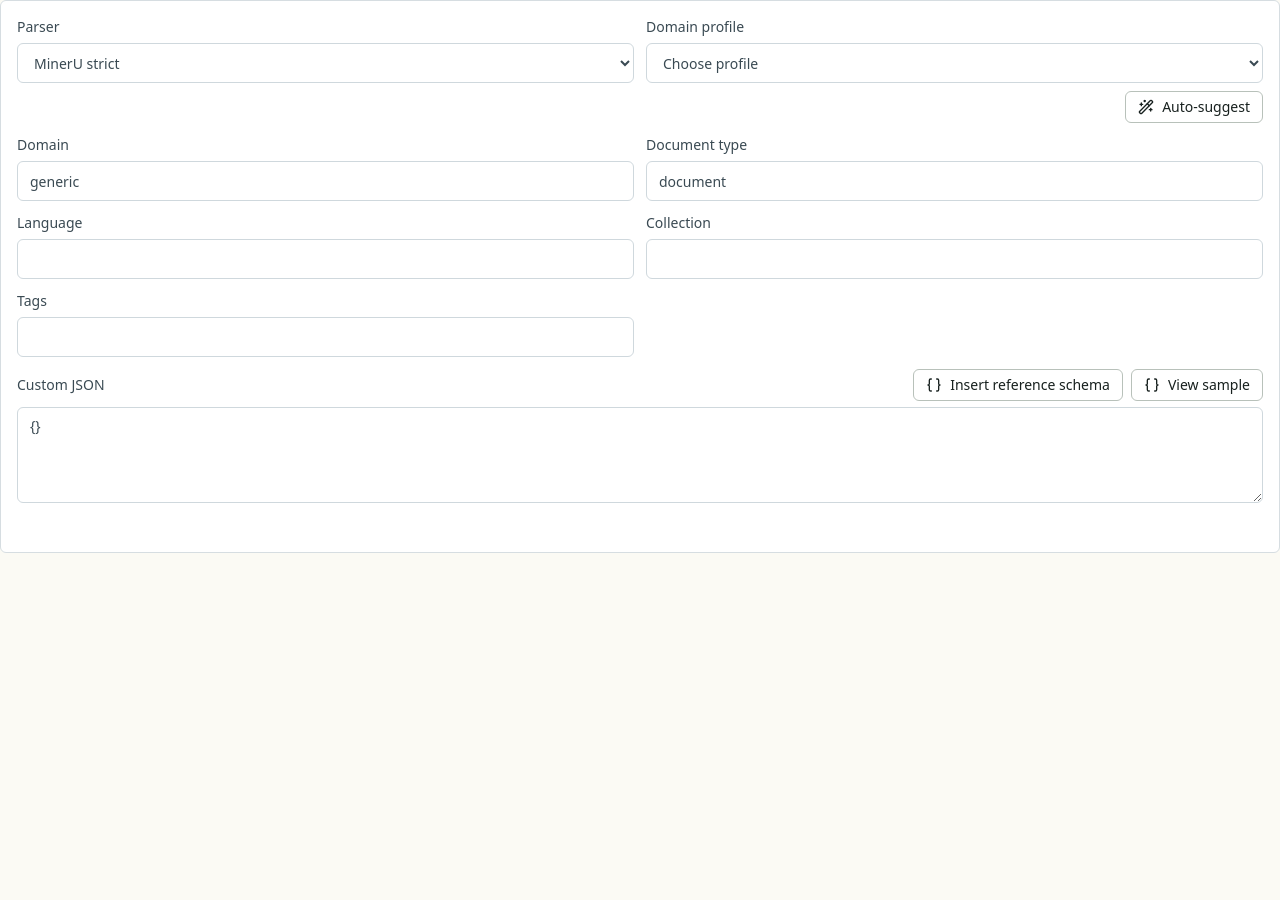
Test case: DomainMetadataPanel › accepts an autosuggested field and keeps the suggested value
This screenshot has width=1280, height=900.
Click the button "Auto-suggest" at (1194, 107), box x1=1125 y1=91 x2=1263 y2=123
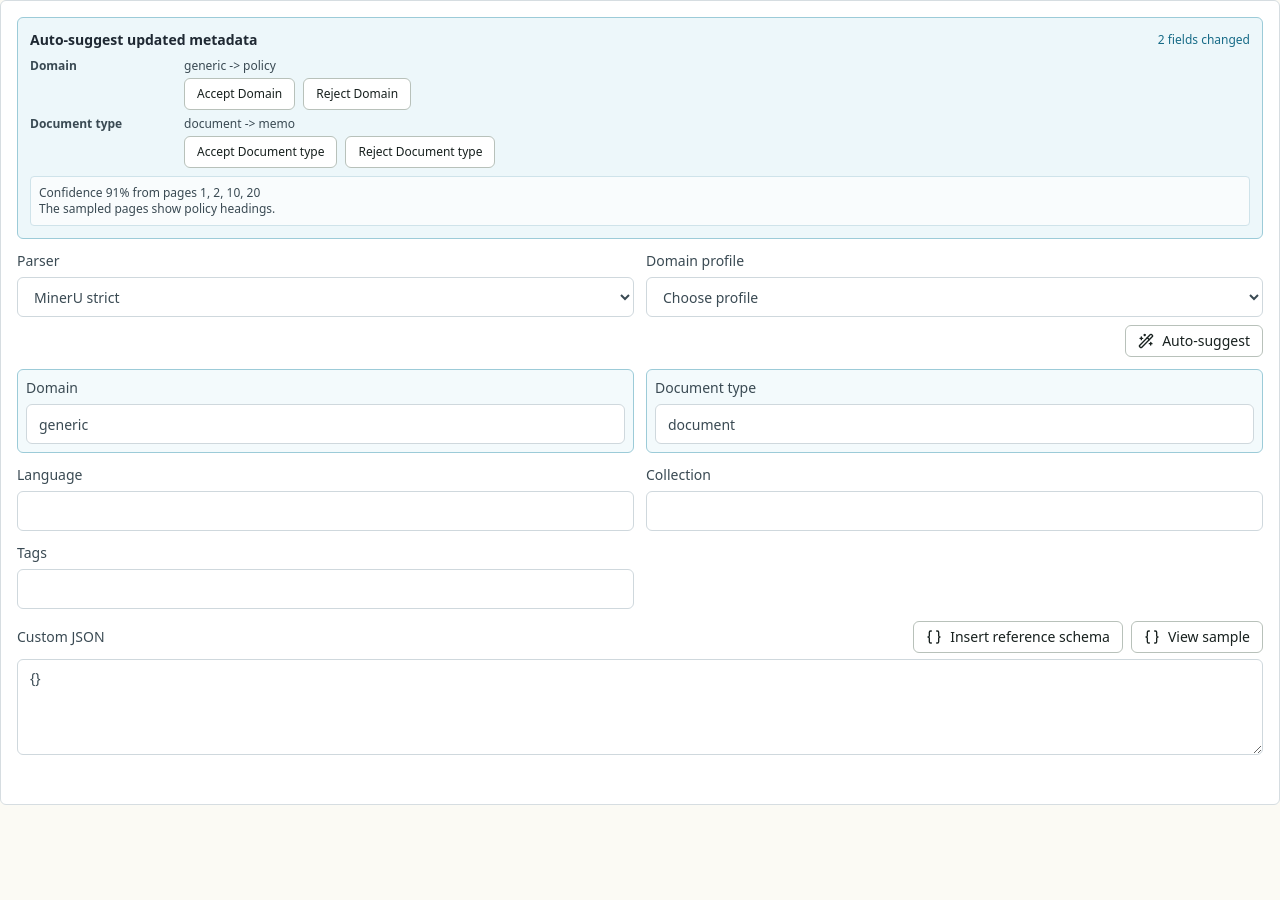
expect the text "Auto-suggest updated metadata" is shown: met, box x1=30 y1=30 x2=258 y2=50
Click the button "Accept Domain" at (240, 94), box x1=184 y1=78 x2=295 y2=110
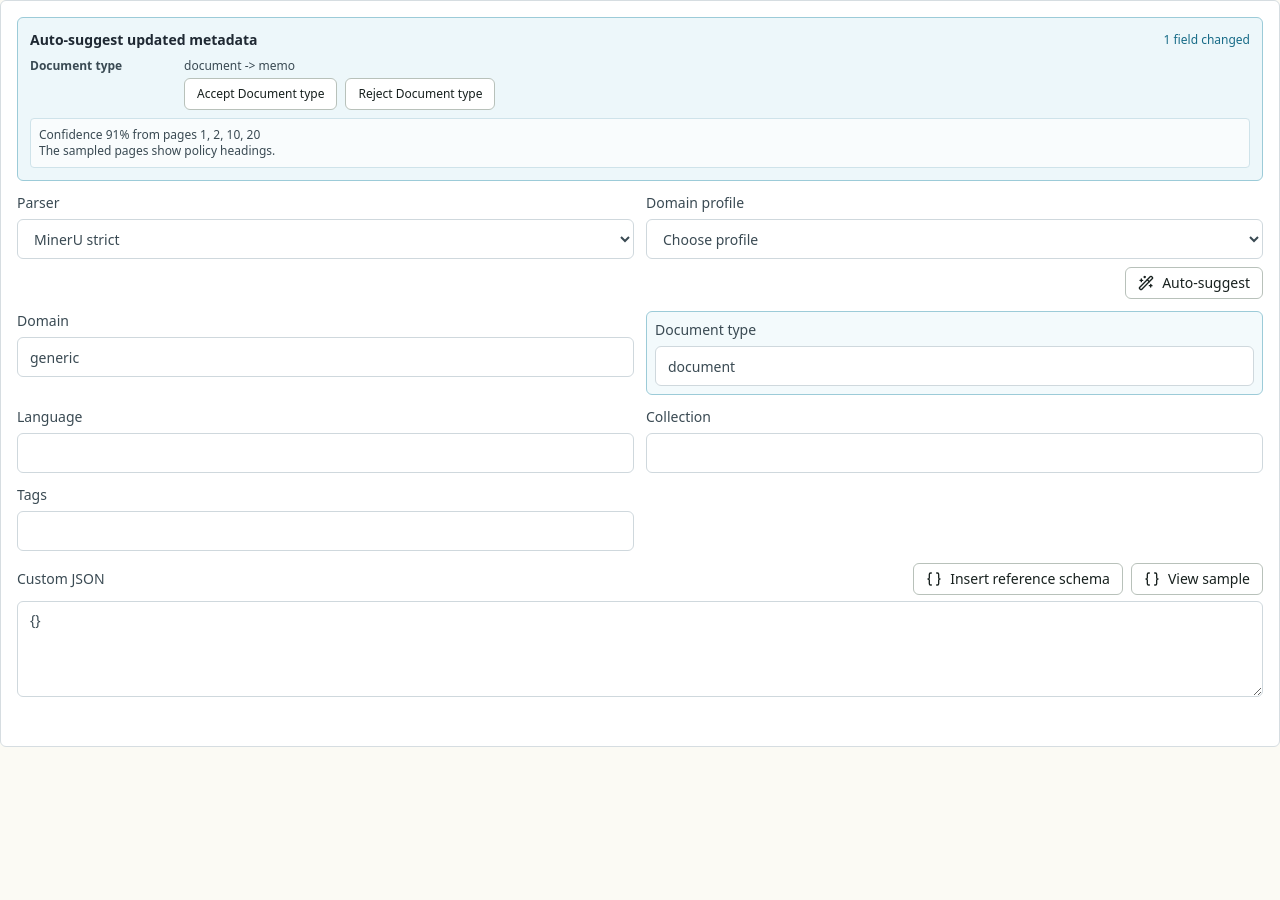
expect the text "generic -> policy" is gone: met
expect the text "1 field changed" is shown: met, box x1=1164 y1=32 x2=1250 y2=48
